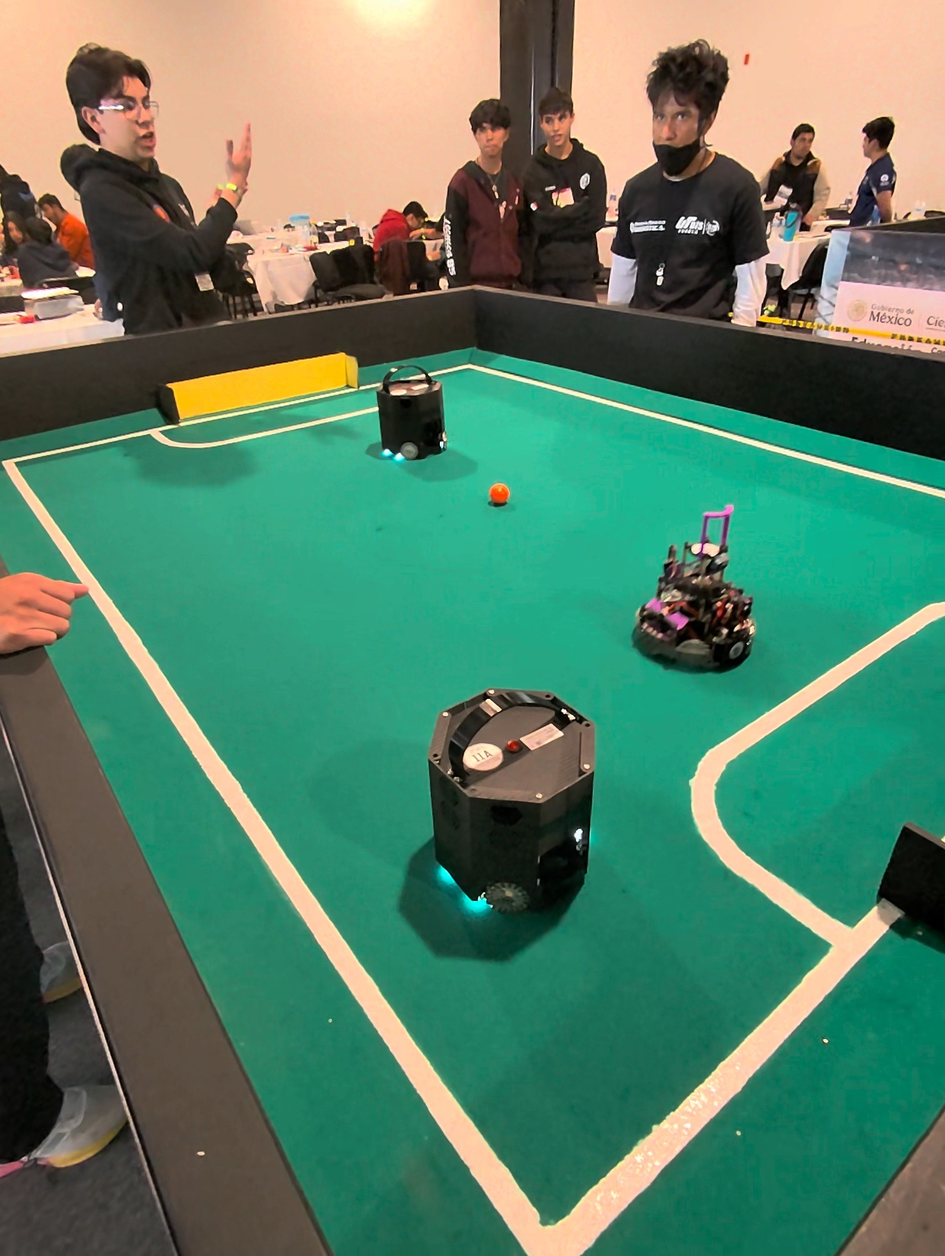Robot: (425, 659, 599, 962), (638, 508, 759, 679), (374, 361, 455, 482)
pelota: (491, 483, 513, 506)
